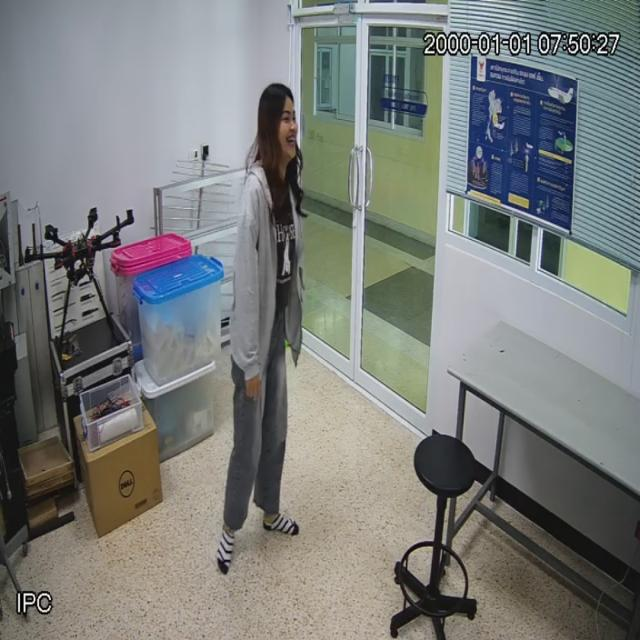normal: (210, 80, 314, 590)
